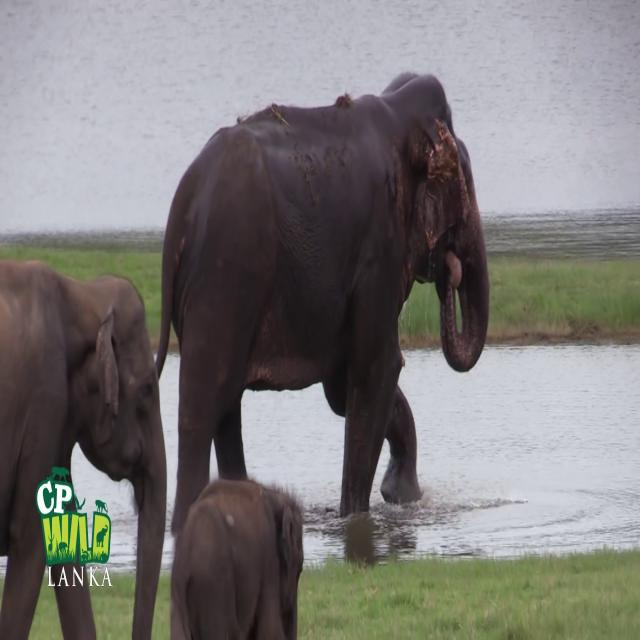Elephant: (154, 70, 490, 539), (0, 257, 168, 639), (169, 477, 304, 639)
